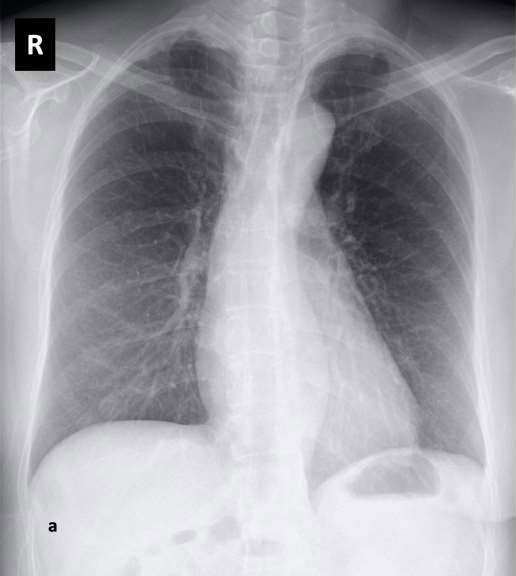Mildw: (34, 38, 235, 468), (310, 55, 483, 476)
